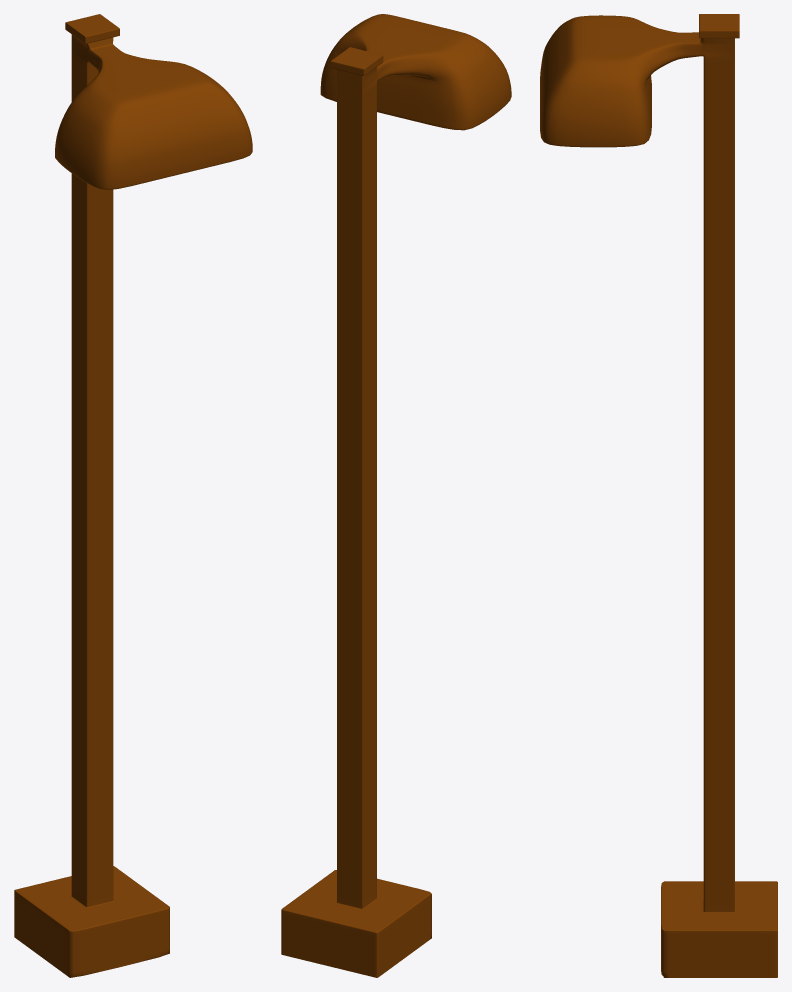
Rendered from objLamp.obj.
3 renders of one model, left to right at view 1: azimuth 30°, elevation 25°; view 2: azimuth 150°, elevation 25°; view 3: azimuth 270°, elevation 25°, orthographic. The views are drawn at different scales.
Visible parts, largest first — view 1: Lamp3; view 2: Lamp3; view 3: Lamp3.
Part boxes in pixels (x1=…): Lamp3: x1=14, y1=14, x2=252, y2=977; Lamp3: x1=281, y1=14, x2=511, y2=977; Lamp3: x1=540, y1=14, x2=777, y2=977.
Size of the model in its own units: 3 by 16.17 by 3.74.
Materials: 2 (1 with a texture image).
